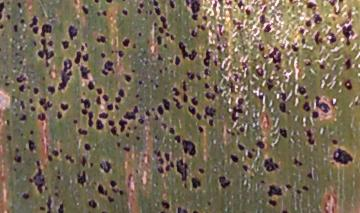tarspot: (27, 167, 47, 197), (35, 36, 55, 66), (59, 55, 73, 91), (331, 146, 354, 165), (262, 153, 281, 175), (176, 156, 189, 186), (315, 96, 332, 116), (265, 183, 286, 199), (266, 47, 284, 65), (341, 23, 355, 45), (181, 136, 196, 156), (216, 173, 233, 190), (176, 39, 189, 61), (122, 105, 141, 120), (75, 169, 89, 188), (102, 58, 118, 74), (304, 127, 316, 148), (201, 48, 214, 67), (190, 174, 203, 192), (341, 55, 354, 73), (99, 159, 114, 174), (66, 23, 79, 40), (341, 77, 354, 93), (230, 104, 243, 120), (78, 63, 90, 80), (158, 198, 173, 211), (276, 100, 289, 115), (158, 16, 171, 31), (77, 97, 94, 108), (327, 30, 338, 47), (119, 36, 132, 50), (189, 1, 202, 15), (87, 196, 99, 211), (97, 182, 109, 197), (277, 126, 289, 141), (202, 104, 218, 115), (255, 39, 266, 55), (291, 155, 304, 168), (311, 12, 324, 25), (58, 38, 72, 50), (171, 97, 183, 111), (315, 61, 329, 73), (290, 40, 301, 55), (39, 25, 54, 36), (189, 47, 198, 65), (86, 109, 95, 127), (202, 91, 218, 101), (267, 197, 280, 209), (26, 138, 37, 152), (58, 100, 72, 111), (162, 95, 171, 112), (313, 30, 322, 47), (20, 190, 32, 202), (93, 119, 105, 131), (1, 1, 7, 25), (64, 153, 76, 165), (296, 84, 308, 96), (302, 2, 320, 10), (45, 84, 58, 95), (79, 5, 92, 16), (76, 126, 89, 137), (78, 155, 89, 168), (80, 50, 91, 63), (34, 112, 48, 122), (86, 79, 96, 93), (94, 34, 108, 44), (154, 33, 164, 47), (254, 92, 268, 102), (82, 140, 93, 152), (29, 14, 40, 26), (108, 176, 119, 188), (236, 141, 247, 153), (228, 152, 240, 163), (155, 163, 166, 175), (165, 125, 177, 136), (135, 76, 146, 88), (303, 18, 315, 29), (254, 65, 265, 77), (236, 94, 247, 106), (265, 81, 276, 93), (297, 26, 308, 38), (120, 6, 130, 19), (108, 125, 118, 138), (117, 120, 127, 133), (170, 84, 180, 97), (155, 51, 165, 64), (46, 195, 53, 213), (4, 132, 15, 143), (122, 72, 133, 83), (304, 170, 315, 181), (168, 1, 179, 12), (33, 157, 43, 169), (172, 133, 182, 145), (195, 124, 205, 136), (155, 104, 165, 116), (302, 100, 312, 112), (180, 79, 190, 91), (187, 29, 199, 39), (302, 58, 314, 68), (243, 6, 253, 18), (18, 98, 27, 111), (97, 111, 110, 120), (10, 22, 19, 35), (279, 89, 288, 102), (207, 116, 216, 129), (181, 92, 190, 105), (175, 205, 189, 213), (259, 11, 266, 27), (17, 83, 27, 94), (30, 84, 40, 95), (17, 113, 28, 123), (196, 165, 207, 175), (301, 183, 312, 193), (255, 139, 266, 149), (190, 94, 200, 105), (311, 110, 322, 120), (202, 68, 212, 79), (187, 104, 197, 115), (211, 81, 222, 91), (237, 124, 247, 135), (55, 172, 64, 184), (184, 71, 196, 80), (214, 43, 223, 55), (11, 154, 24, 162), (104, 196, 117, 204), (117, 87, 127, 97), (17, 58, 27, 68), (150, 20, 160, 30), (54, 111, 65, 120), (30, 26, 41, 35), (57, 201, 65, 213), (163, 150, 171, 162), (132, 122, 140, 134), (116, 49, 125, 59), (16, 1, 25, 11), (240, 163, 250, 172), (121, 145, 131, 154), (16, 74, 26, 83), (157, 65, 166, 75), (51, 147, 59, 158), (294, 187, 302, 198), (330, 138, 341, 146), (94, 95, 102, 106), (153, 7, 164, 15), (143, 107, 151, 118), (352, 98, 360, 109), (173, 54, 180, 66), (95, 86, 104, 95), (135, 29, 144, 38), (116, 187, 125, 196), (283, 181, 291, 191), (136, 1, 146, 9), (3, 79, 11, 89), (190, 15, 200, 23), (151, 149, 161, 157), (12, 145, 22, 153), (235, 1, 243, 11), (112, 96, 123, 103), (133, 134, 144, 141), (190, 206, 201, 213), (280, 206, 291, 213), (37, 204, 45, 213), (99, 51, 107, 60), (101, 8, 108, 18), (71, 116, 78, 126), (152, 83, 162, 90), (27, 129, 36, 136), (78, 109, 87, 116), (337, 1, 348, 6), (1, 23, 7, 32), (133, 94, 142, 100), (92, 1, 102, 6), (19, 18, 25, 26), (104, 1, 116, 5)
